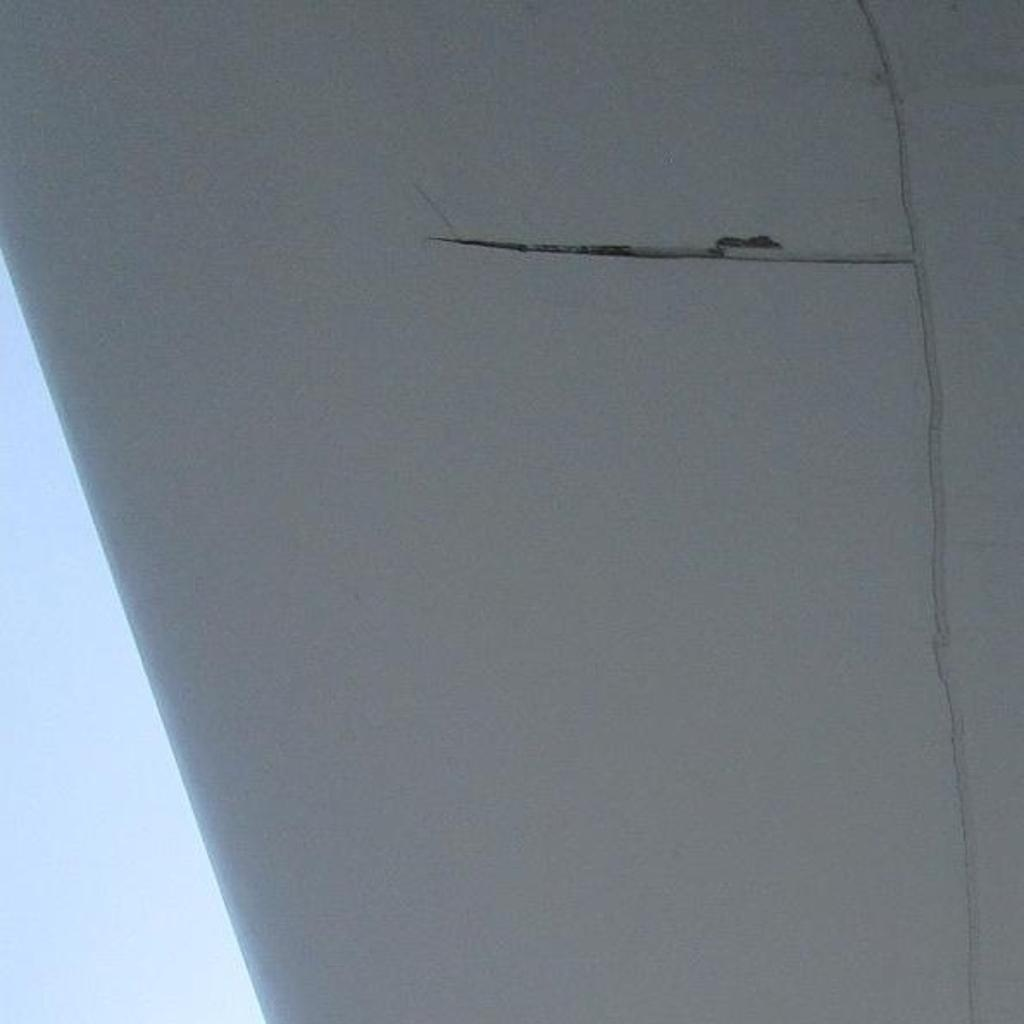hide_craze: (416, 222, 912, 272)
